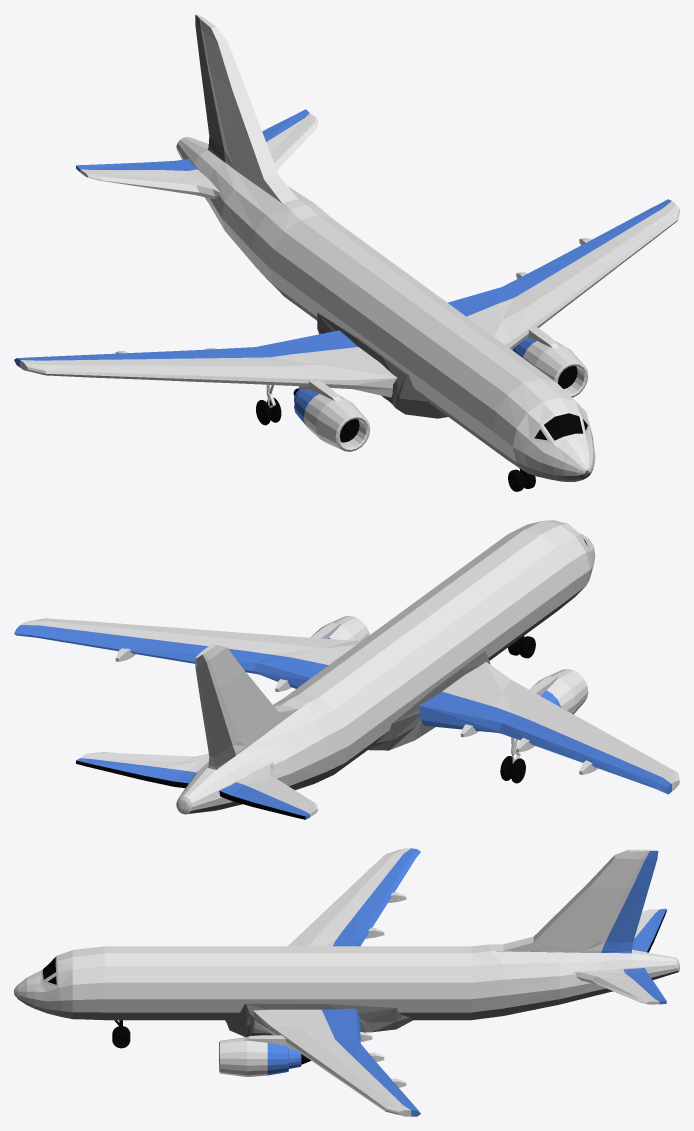
The model's file is Airplane.glb.
3 renders of one model, top to bottom at view 1: azimuth 30°, elevation 25°; view 2: azimuth 150°, elevation 25°; view 3: azimuth 270°, elevation 25°, orthographic. The views are drawn at different scales.
Parts seen in each view (by area): view 1: Plane; view 2: Plane; view 3: Plane.
Part boxes in pixels (x1,y1,x2,y2): Plane: (14, 14, 679, 491); Plane: (14, 520, 679, 819); Plane: (14, 848, 679, 1116).
Size of the model in its own units: 88.62 by 30.76 by 95.22.
